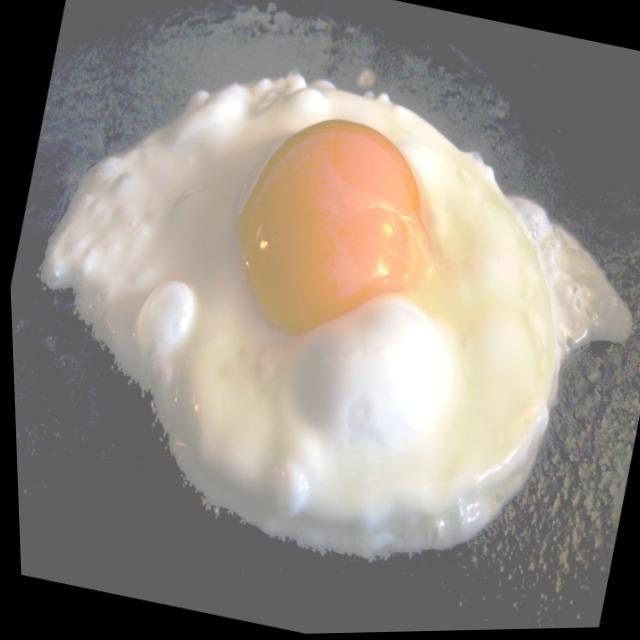fried_eggs: (1, 11, 640, 610)
